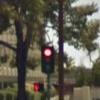Traffic light: (37, 37, 55, 83)
